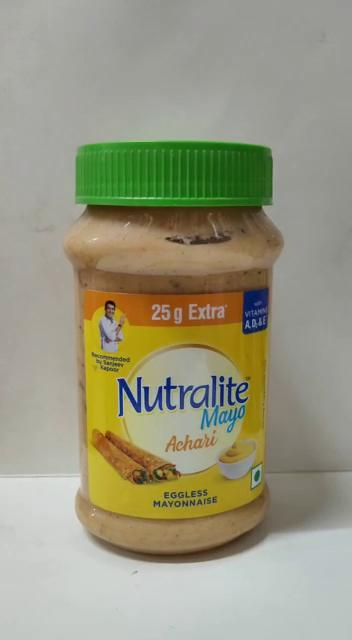Nutralite ACHARI MAYO 300g-275g-25g-: (58, 143, 280, 561)
